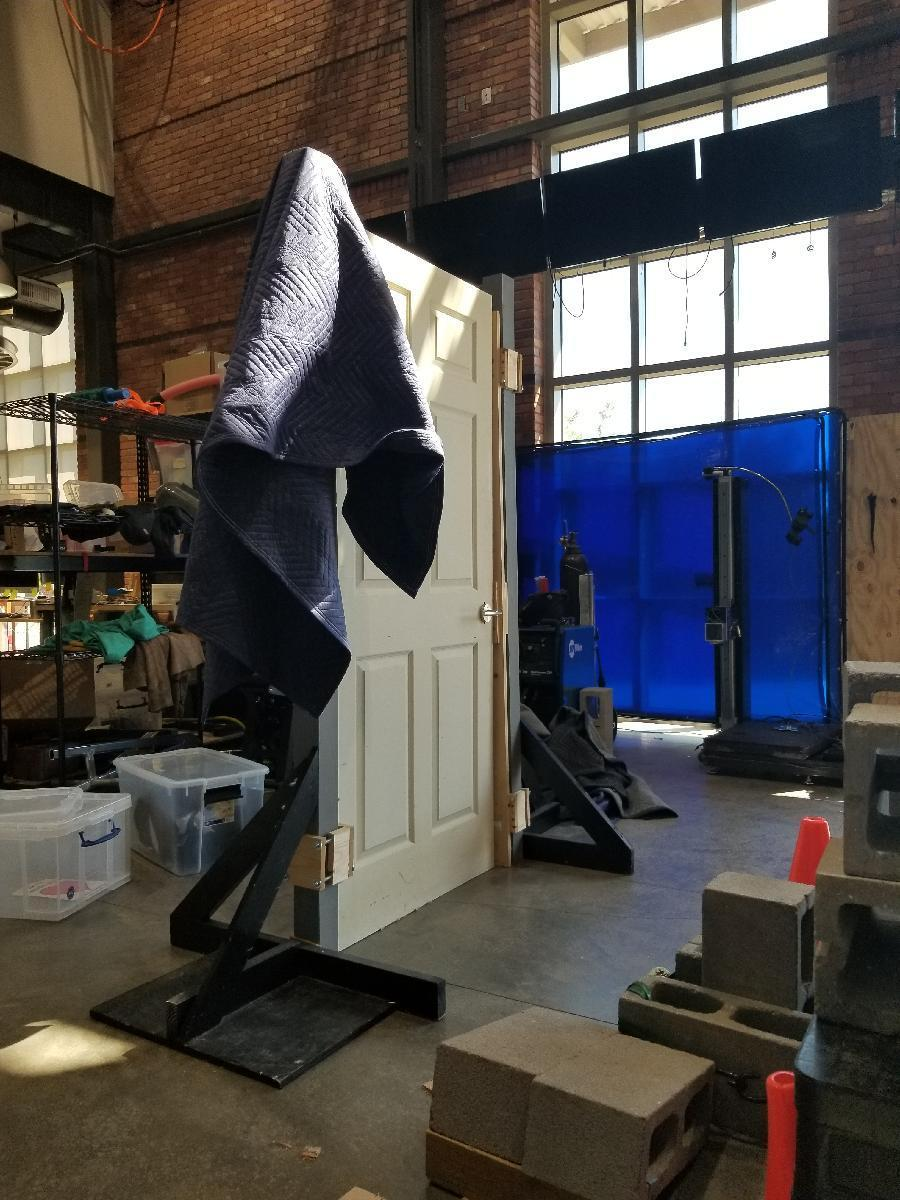door: (336, 248, 502, 939)
handle: (478, 602, 504, 624)
